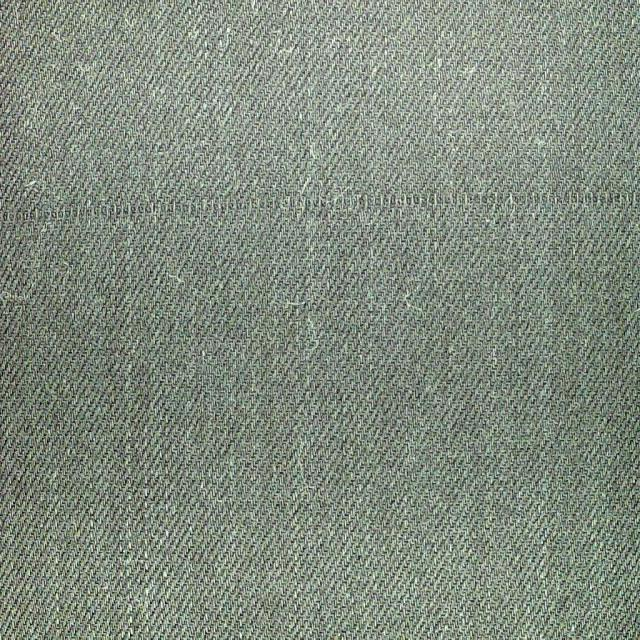Line: (0, 191, 640, 228)
